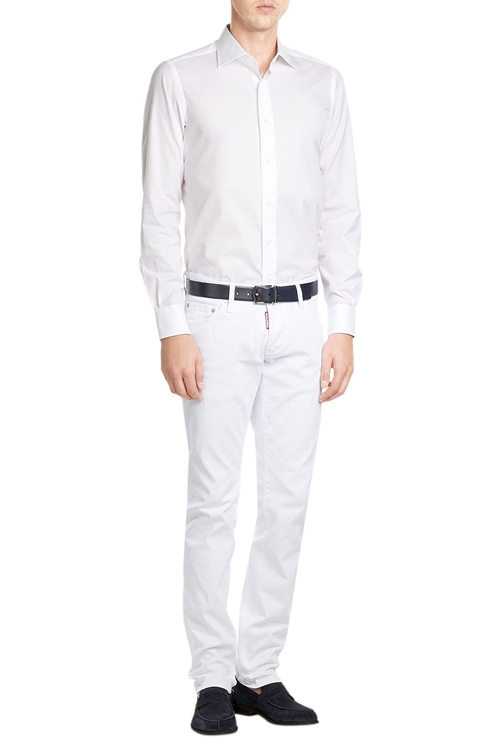F_belt: (174, 274, 328, 310)
F_shirt: (146, 12, 361, 343)
